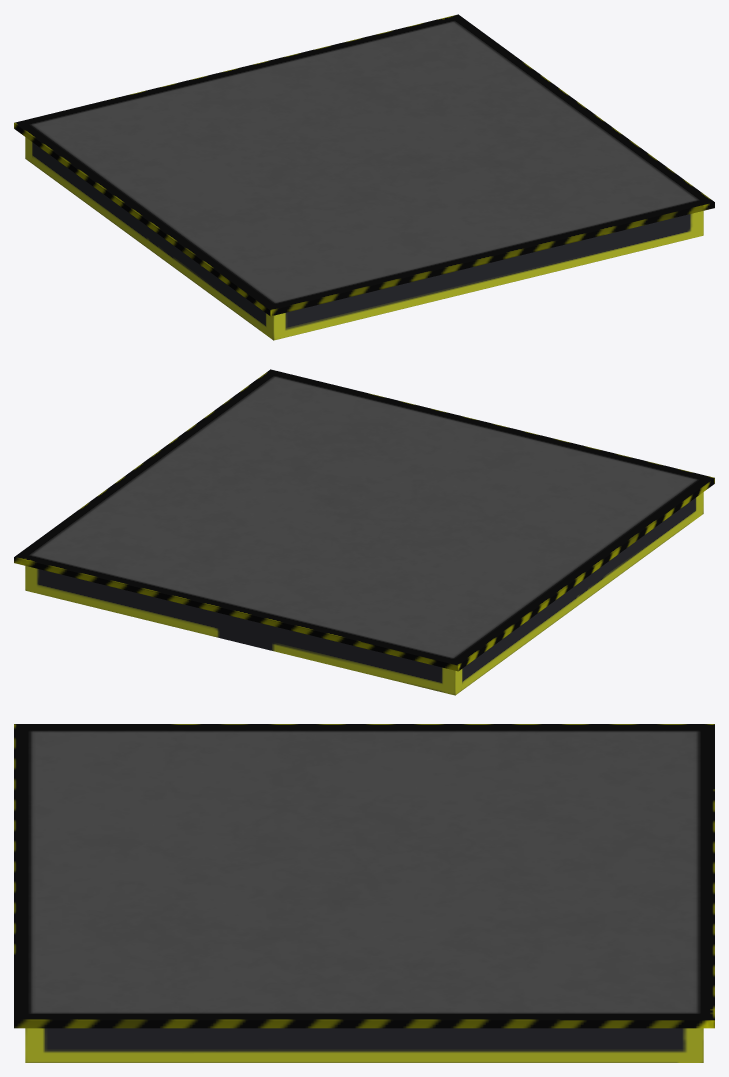
Rendered from control_platform.fbx.
The picture shows the model from 3 angles, top to bottom: view 1: azimuth 30°, elevation 25°; view 2: azimuth 150°, elevation 25°; view 3: azimuth 270°, elevation 25°; orthographic projection. The views are drawn at different scales.
Parts seen in each view (by area): view 1: Plane.003; view 2: Plane.003; view 3: Plane.003.
Part boxes in pixels (x1,y1,x2,y2): Plane.003: (14,14,714,340); Plane.003: (14,369,714,695); Plane.003: (14,724,714,1062).
Bounding box in the file's own units: 8675 × 649 × 8675.
Materials: 1 (1 with a texture image).
